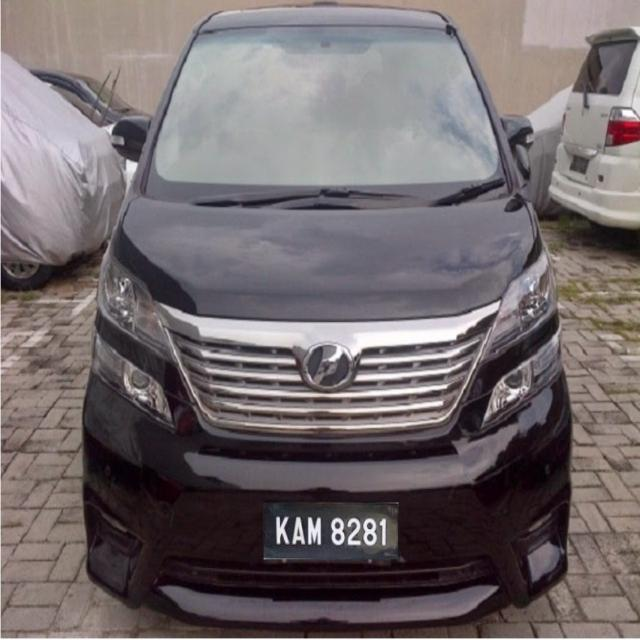car-plate: (260, 499, 400, 562)
